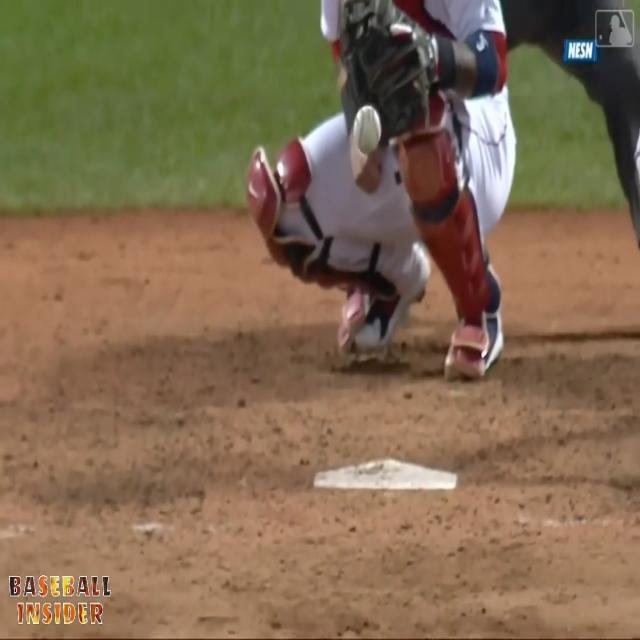baseball: (352, 103, 382, 156)
